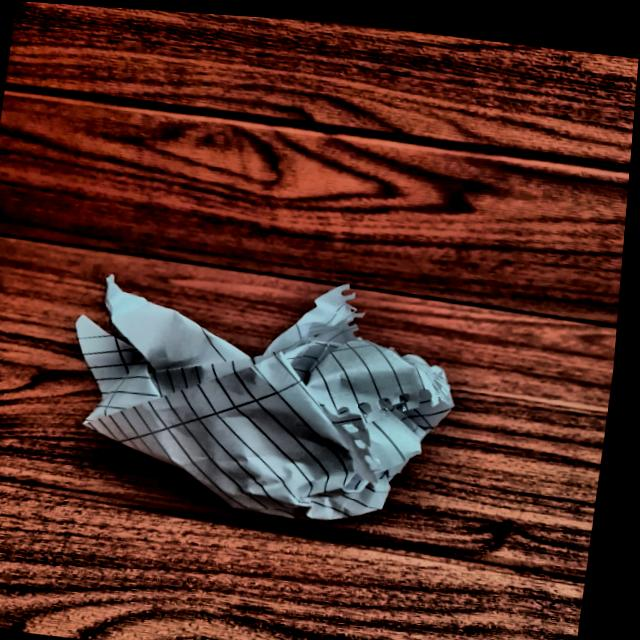Paper: (59, 274, 477, 531)
